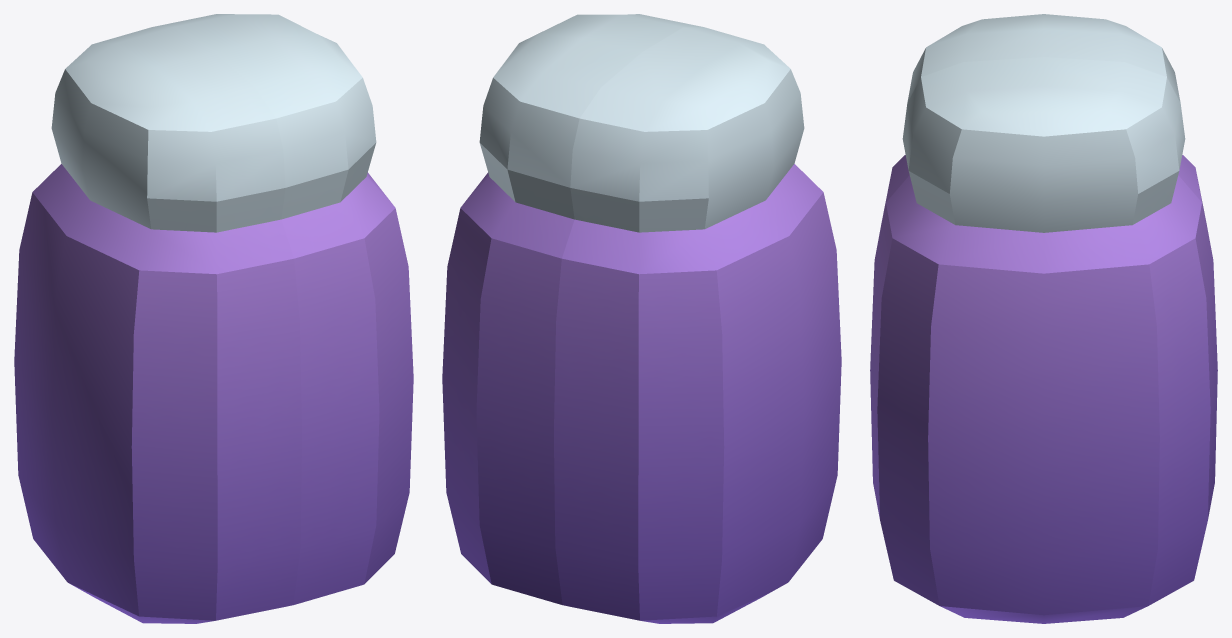
File: melatonin.fbx
The picture shows the model from 3 angles, left to right: view 1: azimuth 30°, elevation 25°; view 2: azimuth 150°, elevation 25°; view 3: azimuth 270°, elevation 25°; orthographic projection.
Visible parts, largest first — view 1: medicinebottle; view 2: medicinebottle; view 3: medicinebottle.
Boxes of the visible parts, x1,y1,x2,y2 form: medicinebottle: (14,14,413,623); medicinebottle: (442,14,841,623); medicinebottle: (870,14,1217,623).
Bounding box in the file's own units: 56.32 × 87.12 × 53.04.
